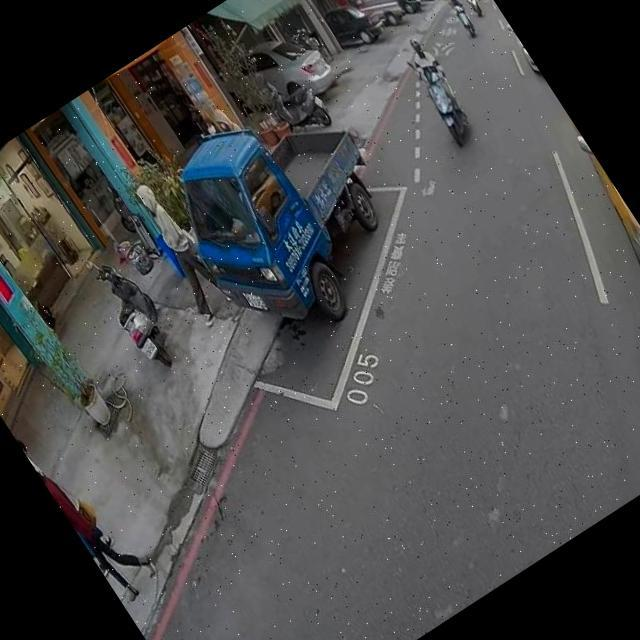person: (21, 425, 155, 601), (115, 166, 244, 332), (9, 414, 129, 579), (396, 32, 472, 127), (206, 100, 245, 144), (196, 111, 223, 142), (439, 0, 462, 11)
